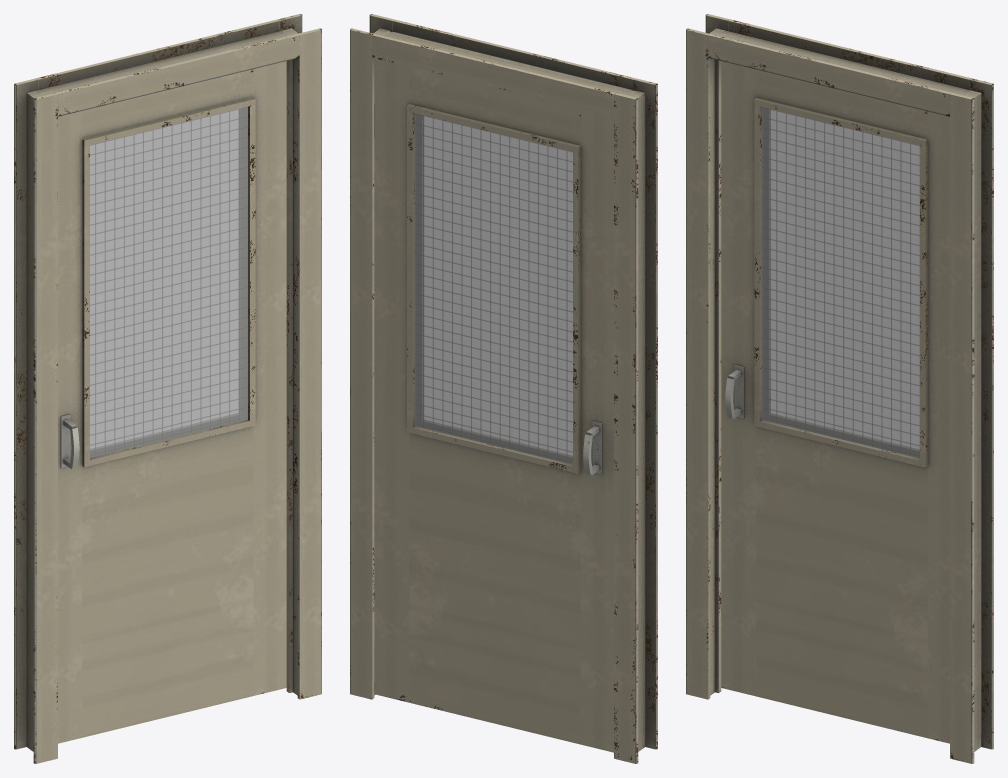
Rendered from door_glass_web.glb.
3 renders of one model, left to right at view 1: azimuth 30°, elevation 25°; view 2: azimuth 150°, elevation 25°; view 3: azimuth 330°, elevation 25°, orthographic.
Parts seen in each view (by area): view 1: Door_Mesh, DoorGlass_Frame, Glass_Door; view 2: Door_Mesh, DoorGlass_Frame, Glass_Door; view 3: Door_Mesh, DoorGlass_Frame, Glass_Door.
Part boxes in pixels (x1,y1,x2,y2): Door_Mesh: [58, 61, 286, 743]; DoorGlass_Frame: [14, 14, 321, 763]; Glass_Door: [90, 106, 247, 457]; Door_Mesh: [374, 58, 613, 752]; DoorGlass_Frame: [350, 14, 657, 763]; Glass_Door: [414, 113, 572, 464]; Door_Mesh: [721, 61, 949, 743]; DoorGlass_Frame: [686, 14, 993, 763]; Glass_Door: [762, 107, 919, 458].
Bounding box in the file's own units: 0.9419 × 2.07 × 0.1729.
Materials: 2 (2 with a texture image).
